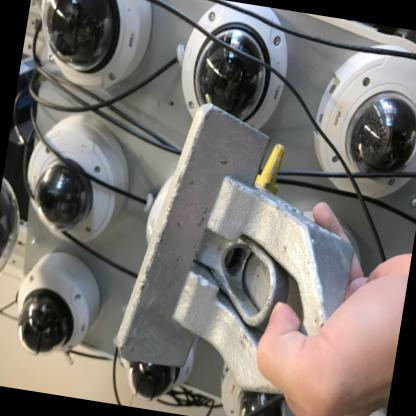Twistlock: (102, 80, 370, 402)
